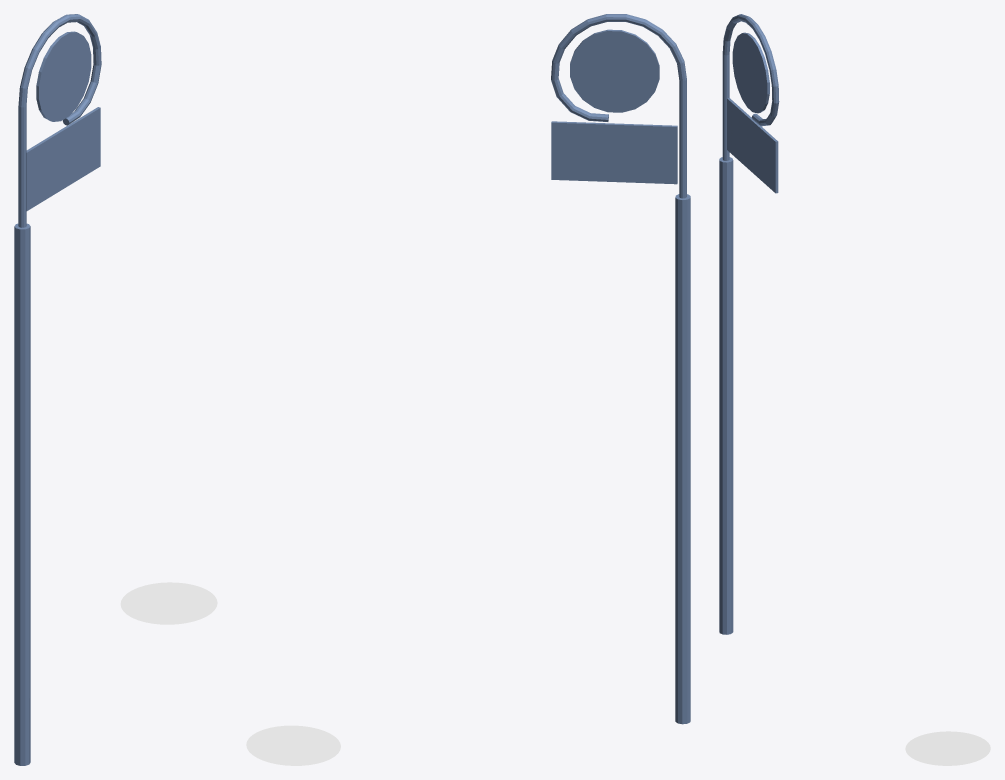
File: data143.glb
The picture shows the model from 3 angles, left to right: view 1: azimuth 30°, elevation 25°; view 2: azimuth 150°, elevation 25°; view 3: azimuth 270°, elevation 25°; orthographic projection. The views are drawn at different scales.
Bounding box in the file's own units: 2.3 × 4.92 × 1.91.
